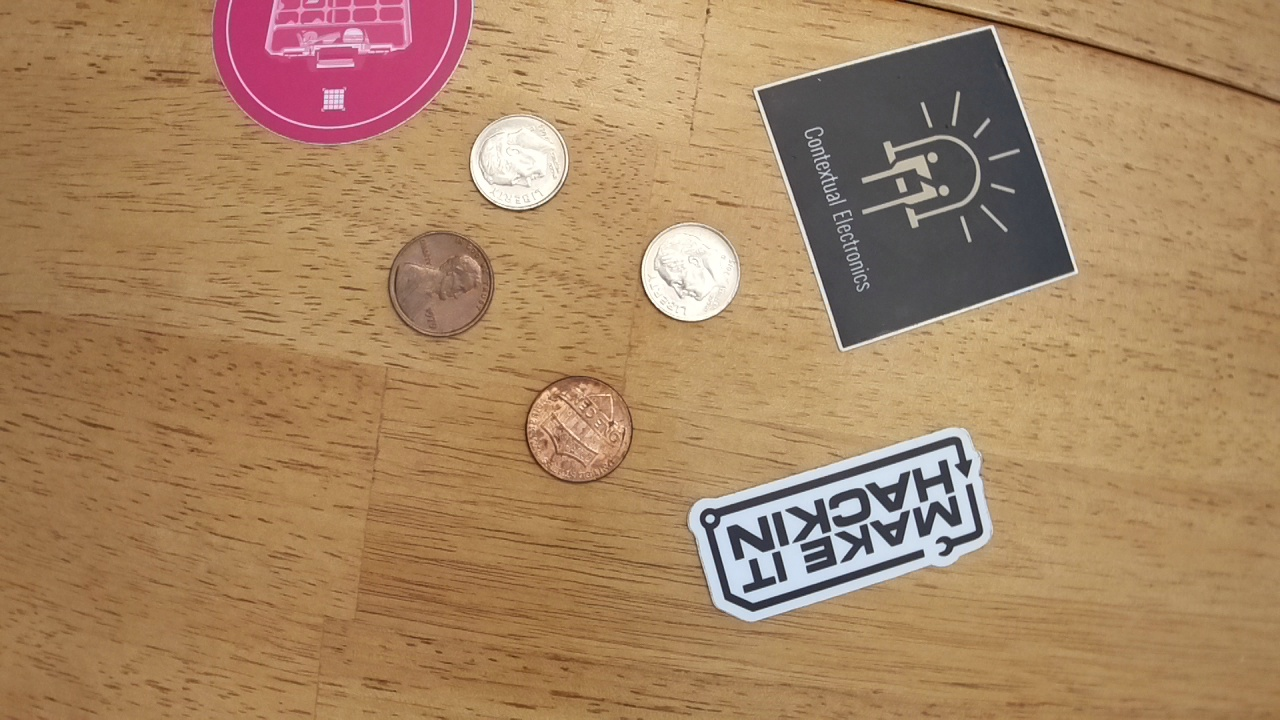dime: (636, 218, 744, 326), (464, 110, 572, 214)
penny: (523, 370, 635, 486), (384, 228, 494, 338)
